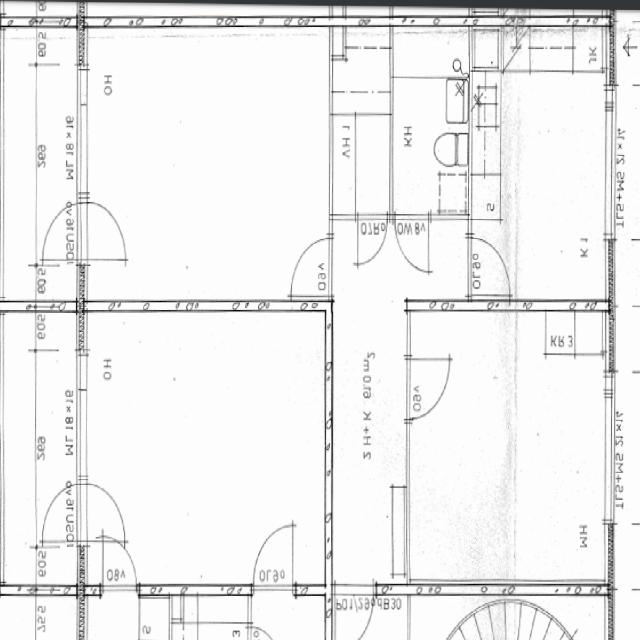door: (77, 202, 126, 260), (40, 202, 88, 260), (407, 359, 449, 418), (292, 238, 332, 296), (470, 238, 510, 295), (335, 584, 374, 640), (396, 214, 429, 271), (358, 214, 387, 264)
